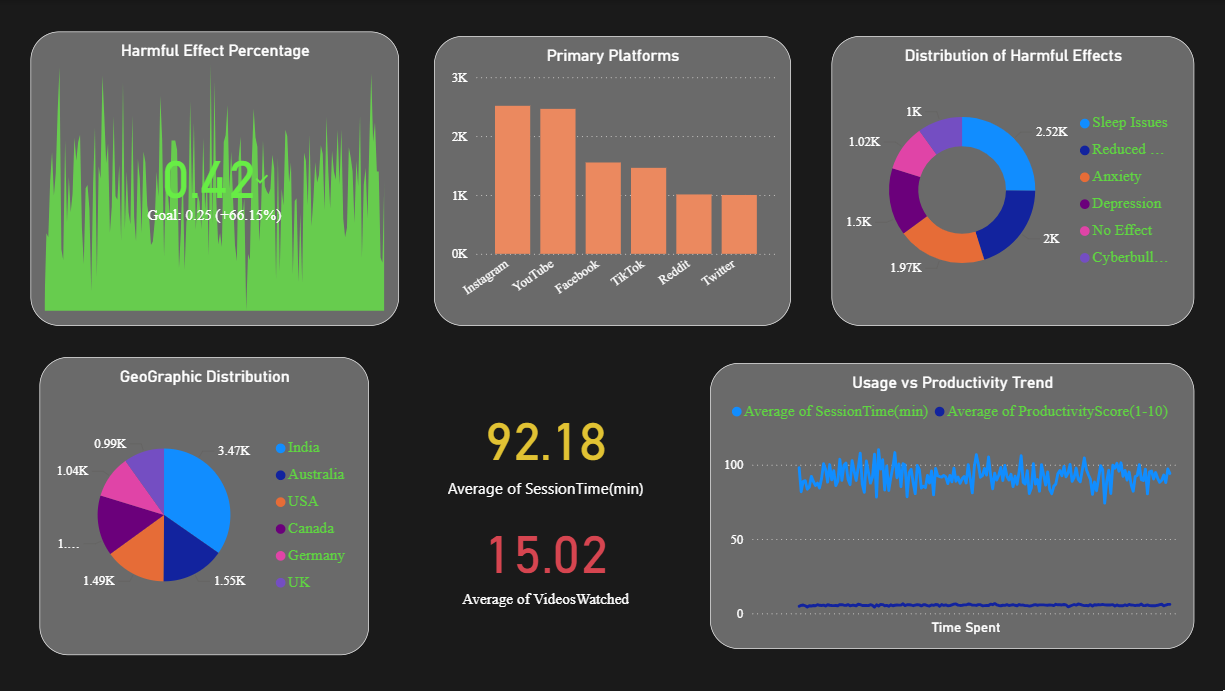

What the dashboard file says about the page in this screenshot:
{"tool":"powerbi","page":{"name":"Page 2","canvas":[1280,720],"ordinal":1},"visuals":[{"type":"donutChart","title":"Distribution of Harmful Effects","fields":{"Category":["Sheet1.HarmfulEffect"],"Y":["CountNonNull(Sheet1.UserID)"]},"box":[868.1,36.8,377.9,302.3],"z":0},{"type":"lineChart","title":"Usage vs Productivity Trend","fields":{"Category":["Sheet1.Date"],"Y":["Avg(Sheet1.SessionTime(min))","Avg(Sheet1.ProductivityScore(1-10))"]},"box":[741.5,377.9,504.5,298.2],"z":1},{"type":"columnChart","title":"Primary Platforms","fields":{"Category":["Sheet1.PrimaryPlatform"],"Y":["CountNonNull(Sheet1.UserID)"]},"box":[453.5,36.8,371.8,302.3],"z":2},{"type":"pieChart","title":"GeoGraphic Distribution","fields":{"Category":["Sheet1.Location"],"Y":["CountNonNull(Sheet1.Location)"]},"box":[42.9,371.8,343.2,310.5],"z":3},{"type":"kpi","title":"Harmful Effect Percentage","fields":{"Indicator":["Sheet1.Harmful Effect %"],"TrendLine":["Sheet1.Date"],"Goal":["Sheet1.Harmful Effect Target"]},"box":[32.7,32.7,384,306.4],"z":4},{"type":"cardVisual","fields":{"Data":["Avg(Sheet1.SessionTime(min))"]},"box":[439.9,407,261.1,135.7],"z":5},{"type":"cardVisual","fields":{"Data":["Avg(Sheet1.VideosWatched)"]},"box":[439.9,503.6,261.1,172.7],"z":6}]}

Visuals, with their boxes in screenshot pixels (x1, y1, x2, y2), scaled from the page's 1280x720 canvas onto the 1225x691 screenshot:
"Distribution of Harmful Effects" donutChart: [x1=831, y1=35, x2=1192, y2=325]
"Usage vs Productivity Trend" lineChart: [x1=710, y1=363, x2=1192, y2=649]
"Primary Platforms" columnChart: [x1=434, y1=35, x2=790, y2=325]
"GeoGraphic Distribution" pieChart: [x1=41, y1=357, x2=370, y2=655]
"Harmful Effect Percentage" kpi: [x1=31, y1=31, x2=399, y2=325]
cardVisual - Avg(Sheet1.SessionTime(min)): [x1=421, y1=391, x2=671, y2=521]
cardVisual - Avg(Sheet1.VideosWatched): [x1=421, y1=483, x2=671, y2=649]
